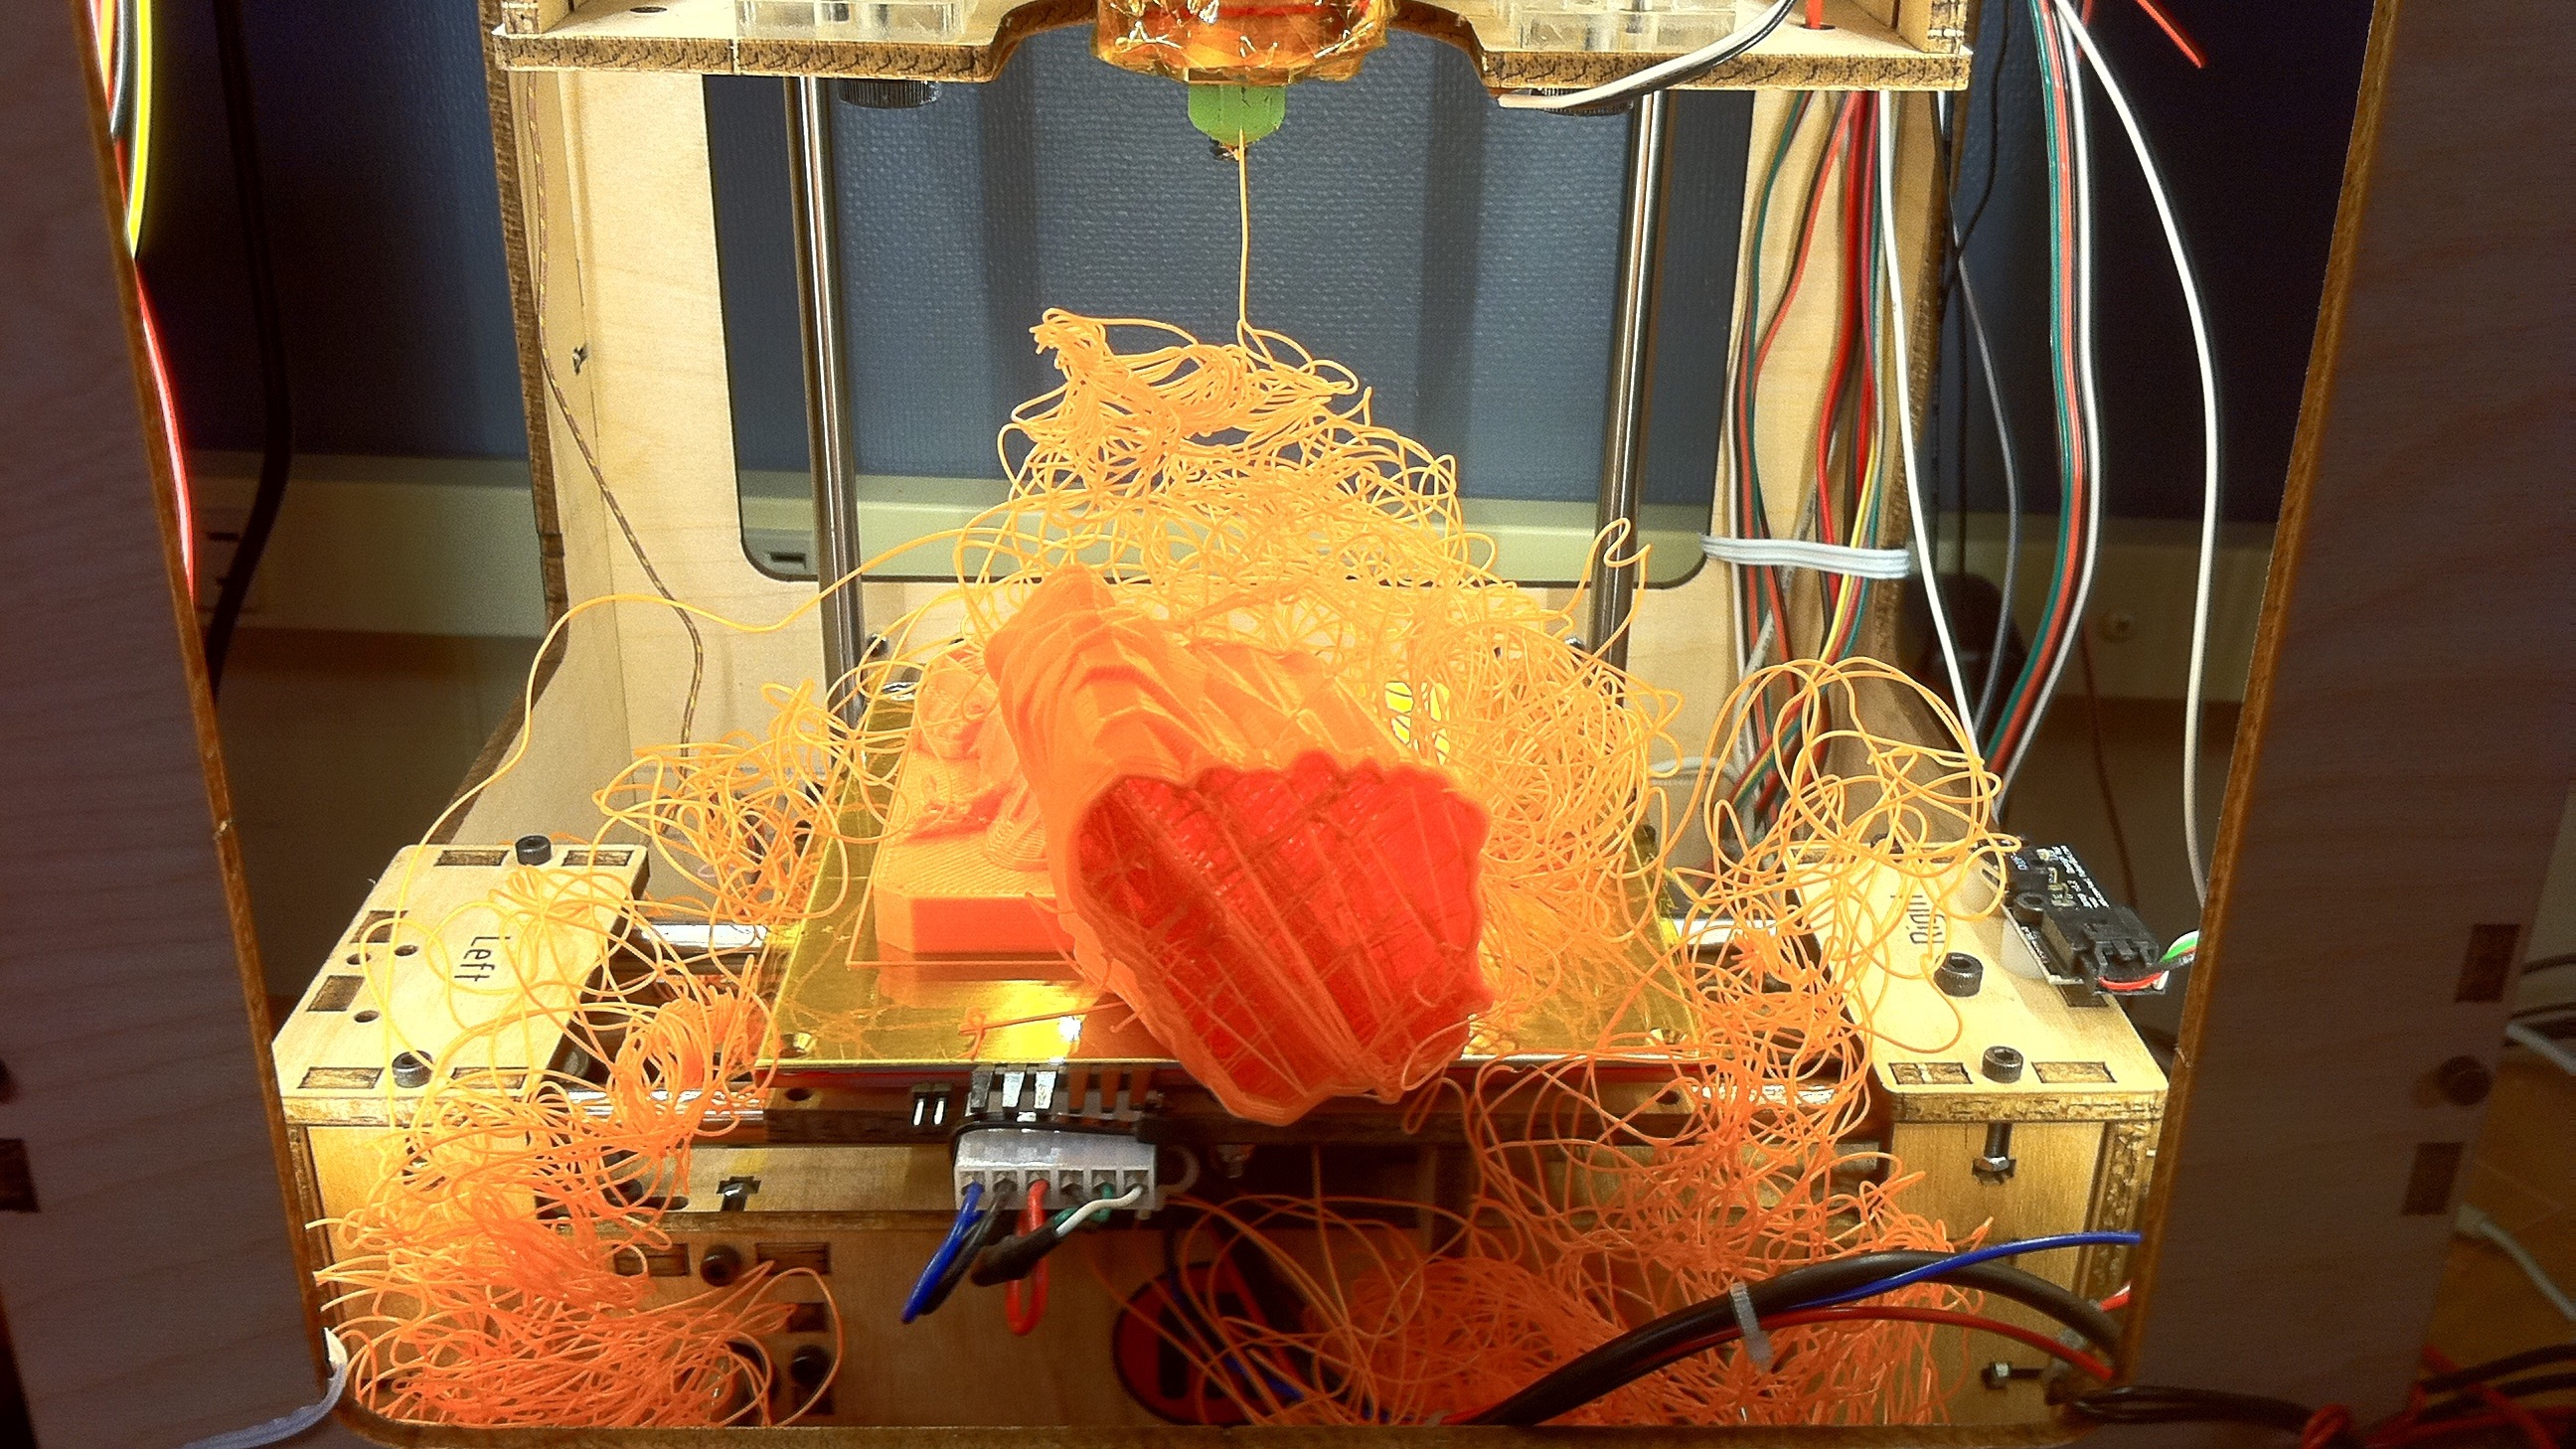fail: (885, 96, 2010, 1143), (271, 582, 1065, 1417), (1062, 1146, 1974, 1428)
